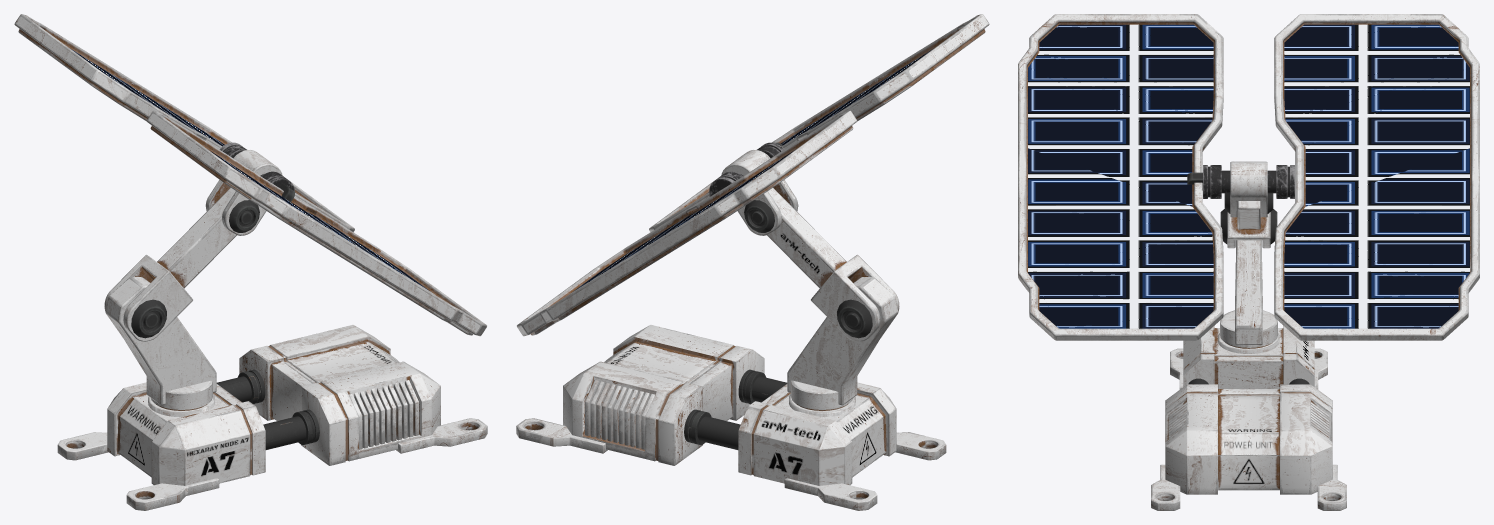
File: rfs_solar_v6.dae
The picture shows the model from 3 angles, left to right: view 1: azimuth 30°, elevation 25°; view 2: azimuth 150°, elevation 25°; view 3: azimuth 270°, elevation 25°; orthographic projection. The views are drawn at different scales.
Visible parts, largest first — view 1: rfs_solar_v6; view 2: rfs_solar_v6; view 3: rfs_solar_v6.
Part boxes in pixels (x1,y1,x2,y2): rfs_solar_v6: (14,14,487,510); rfs_solar_v6: (516,14,989,510); rfs_solar_v6: (1018,14,1479,510).
Bounding box in the file's own units: 3.96 × 5 × 4.25.
7 materials, 7 textured.
